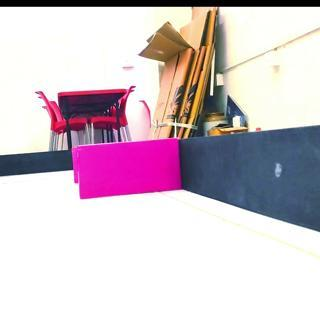xparking: (71, 137, 183, 201)
